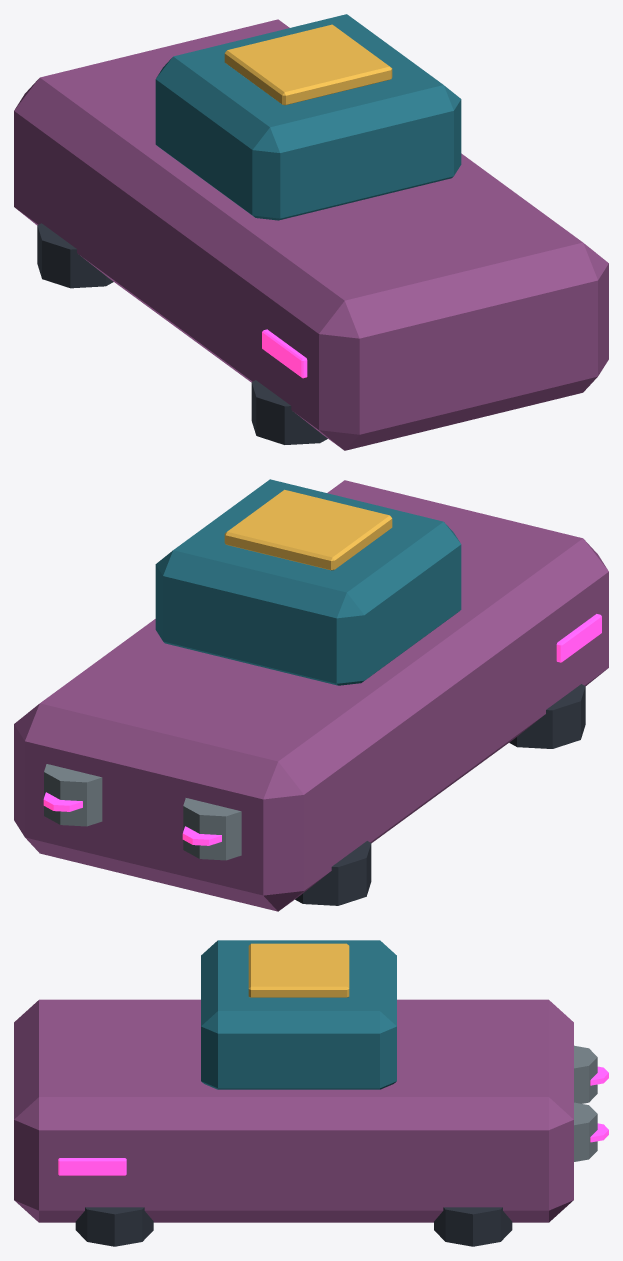
The model's file is vehicles_040_seed11.glb.
3 renders of one model, top to bottom at view 1: azimuth 30°, elevation 25°; view 2: azimuth 150°, elevation 25°; view 3: azimuth 270°, elevation 25°, orthographic. The views are drawn at different scales.
Parts seen in each view (by area): view 1: vehicles_040_seed11; view 2: vehicles_040_seed11; view 3: vehicles_040_seed11.
Boxes of the visible parts, box(x1,y1,x2,y2) form: vehicles_040_seed11: box(14, 14, 608, 450); vehicles_040_seed11: box(14, 479, 608, 911); vehicles_040_seed11: box(14, 940, 608, 1246).
Size of the model in its own units: 1.93 by 1.49 by 3.66.
